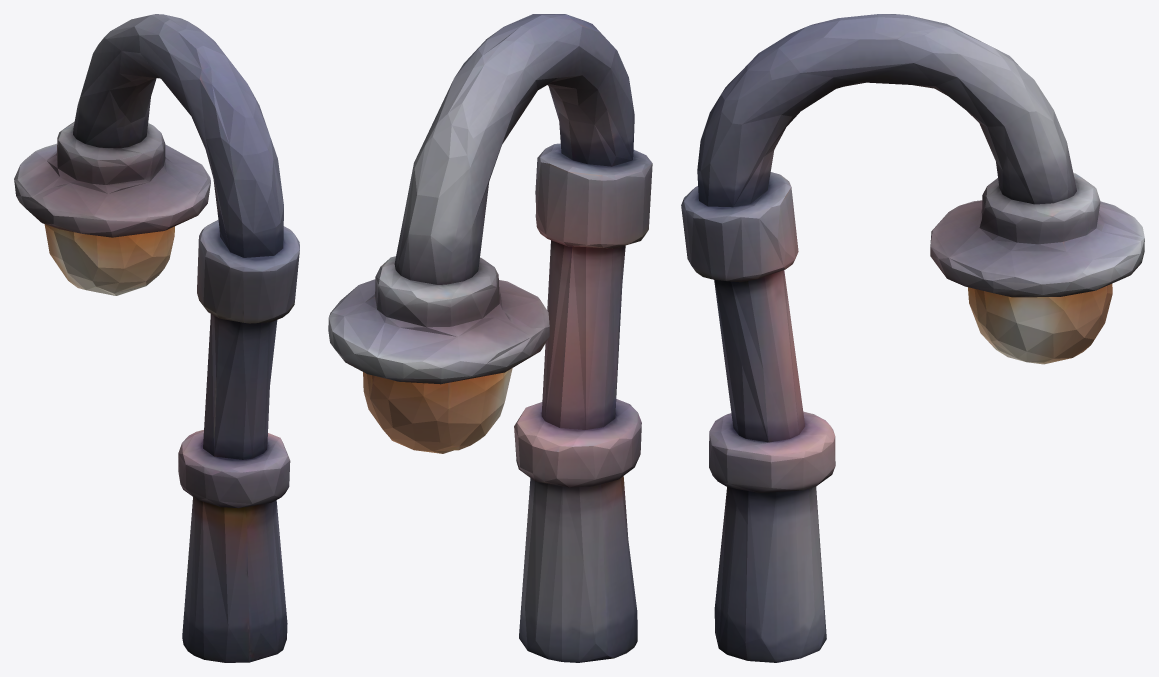
Rendered from streetlamp.glb.
The picture shows the model from 3 angles, left to right: view 1: azimuth 30°, elevation 25°; view 2: azimuth 150°, elevation 25°; view 3: azimuth 270°, elevation 25°; orthographic projection. The views are drawn at different scales.
Parts seen in each view (by area): view 1: geometry_0; view 2: geometry_0; view 3: geometry_0.
Part boxes in pixels (bbox=[...]): geometry_0: bbox=[14, 14, 299, 662]; geometry_0: bbox=[328, 14, 652, 662]; geometry_0: bbox=[681, 14, 1144, 662].
Bounding box in the file's own units: 0.303 × 0.9975 × 0.6731.
Materials: 1 (1 with a texture image).
